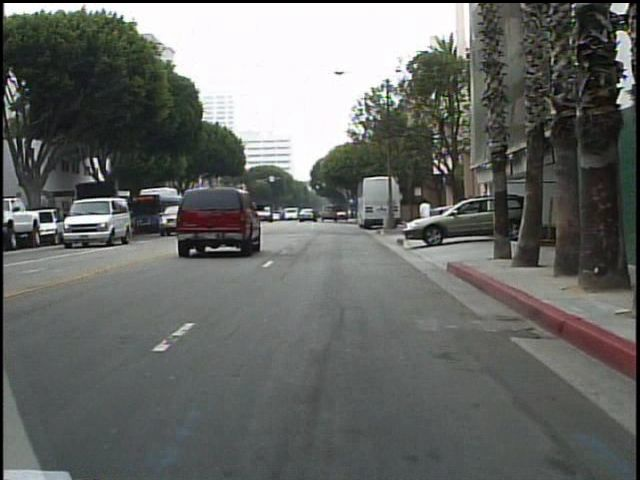person: (415, 195, 435, 240)
